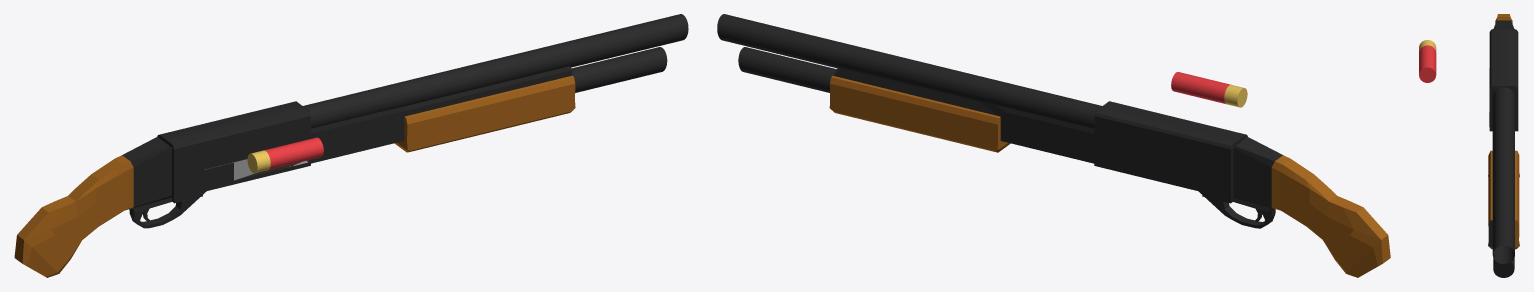
File: shotgunbetter.glb
3 renders of one model, left to right at view 1: azimuth 30°, elevation 25°; view 2: azimuth 150°, elevation 25°; view 3: azimuth 270°, elevation 25°, orthographic. The views are drawn at different scales.
Parts seen in each view (by area): view 1: shoutgun body, barrel, Cube.001, cylinder, Cylinder; view 2: shoutgun body, barrel, Cube.001, cylinder, Cylinder; view 3: barrel, shoutgun body, Cube.001, Cylinder, cylinder.
Boxes of the visible parts, box(x1,y1,x2,y2) form: shoutgun body: box(14, 66, 572, 277); barrel: box(303, 14, 688, 128); Cube.001: box(394, 75, 575, 152); cylinder: box(571, 47, 667, 92); Cylinder: box(247, 137, 323, 173); shoutgun body: box(833, 68, 1390, 277); barrel: box(717, 14, 1101, 128); Cube.001: box(829, 76, 1010, 152); cylinder: box(738, 47, 836, 92); Cylinder: box(1171, 72, 1247, 107); barrel: box(1492, 87, 1514, 263); shoutgun body: box(1489, 14, 1518, 131); Cube.001: box(1488, 150, 1519, 249); Cylinder: box(1419, 40, 1436, 82); cylinder: box(1493, 258, 1514, 277).
Bounding box in the file's own units: 14.18 × 2.31 × 2.19.
